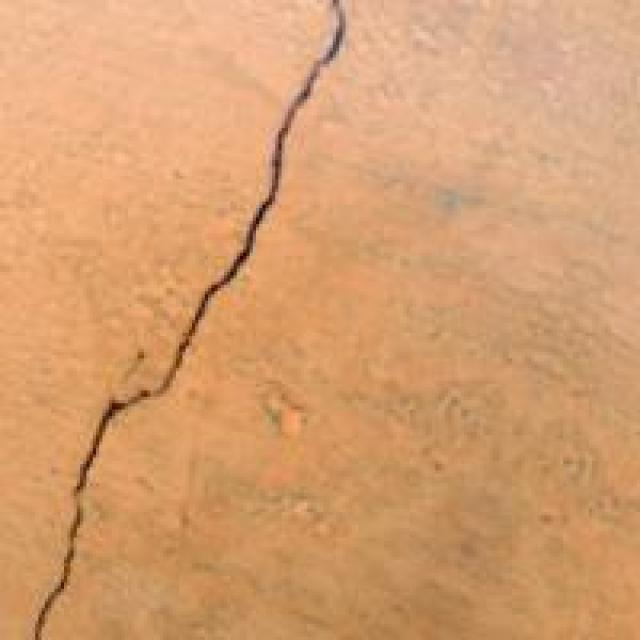Crack: (16, 0, 365, 637)
